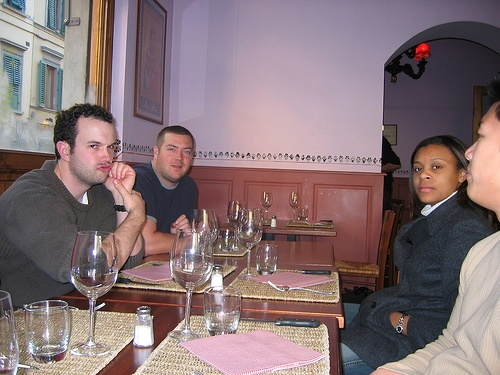head: (53, 104, 119, 187), (411, 137, 465, 205), (156, 123, 196, 183)
person: (337, 131, 489, 370), (1, 101, 149, 305), (465, 77, 499, 375), (130, 123, 196, 262), (382, 133, 402, 210)
